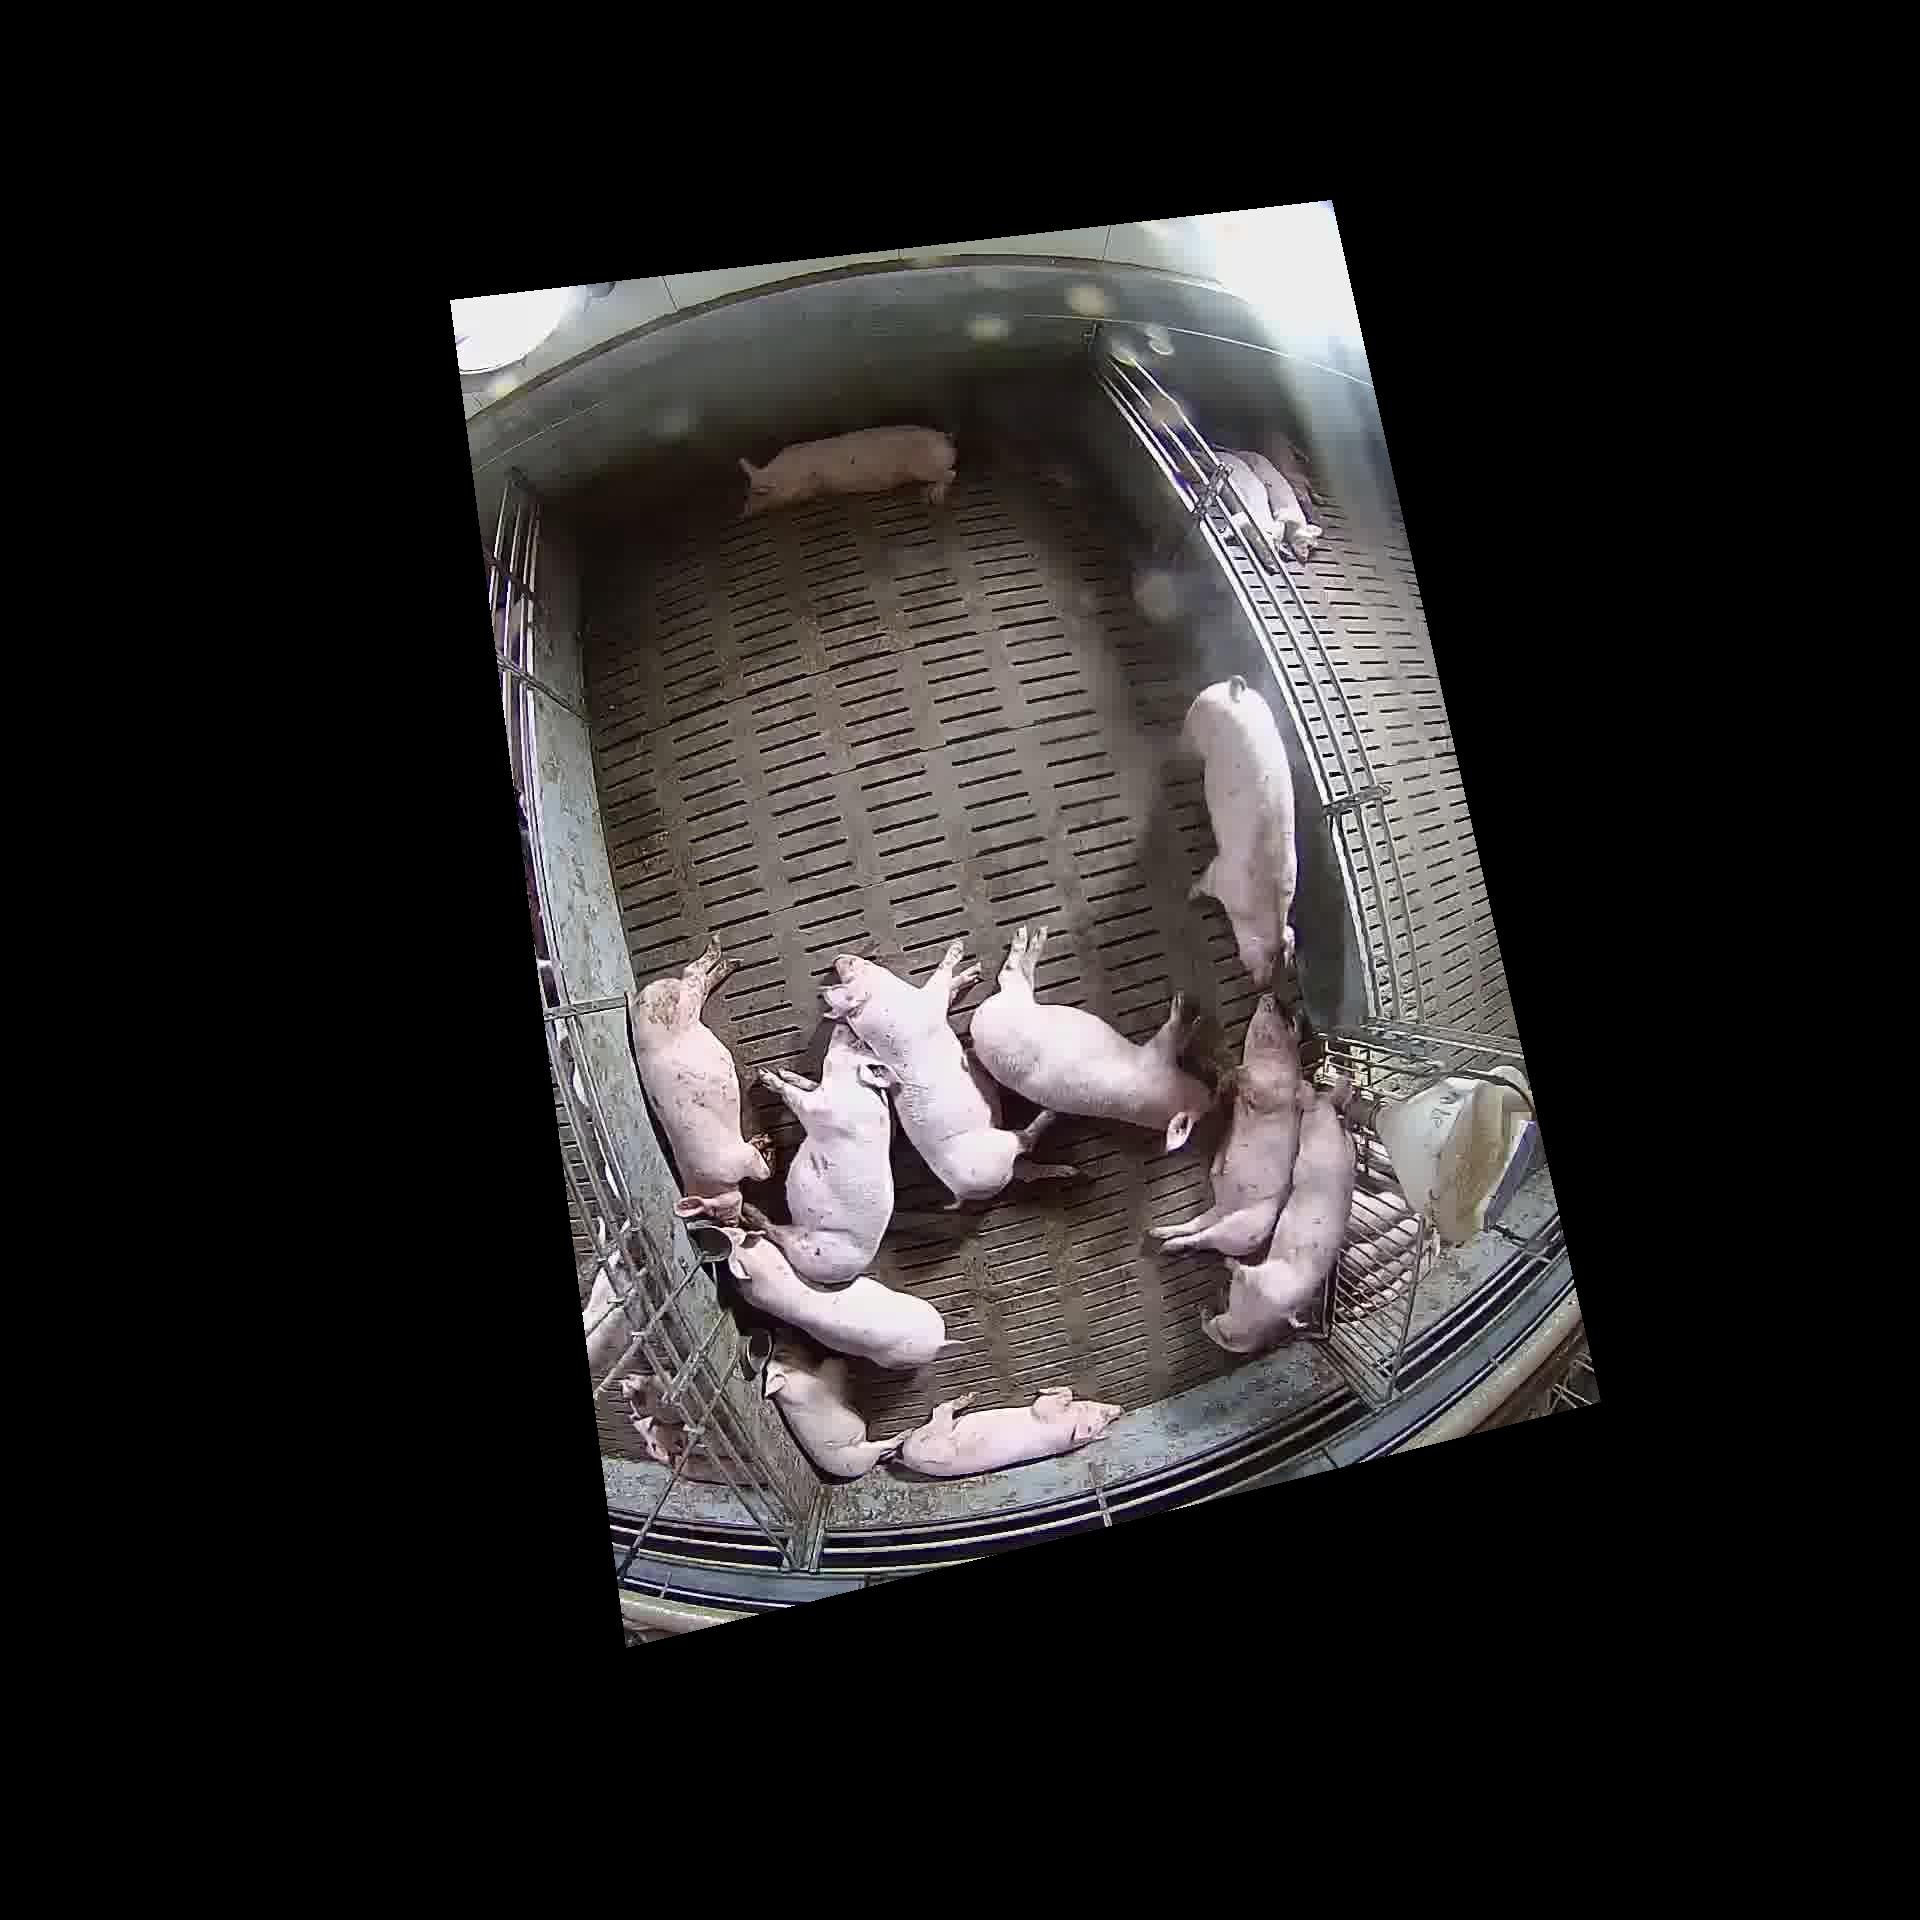pig: (823, 937, 1073, 1196), (971, 927, 1213, 1143), (1153, 990, 1306, 1252), (633, 944, 772, 1224), (1204, 1113, 1352, 1350), (758, 1022, 891, 1280), (1182, 679, 1296, 974), (723, 1231, 942, 1368), (902, 1387, 1120, 1475), (740, 425, 955, 512), (761, 1356, 913, 1475)
